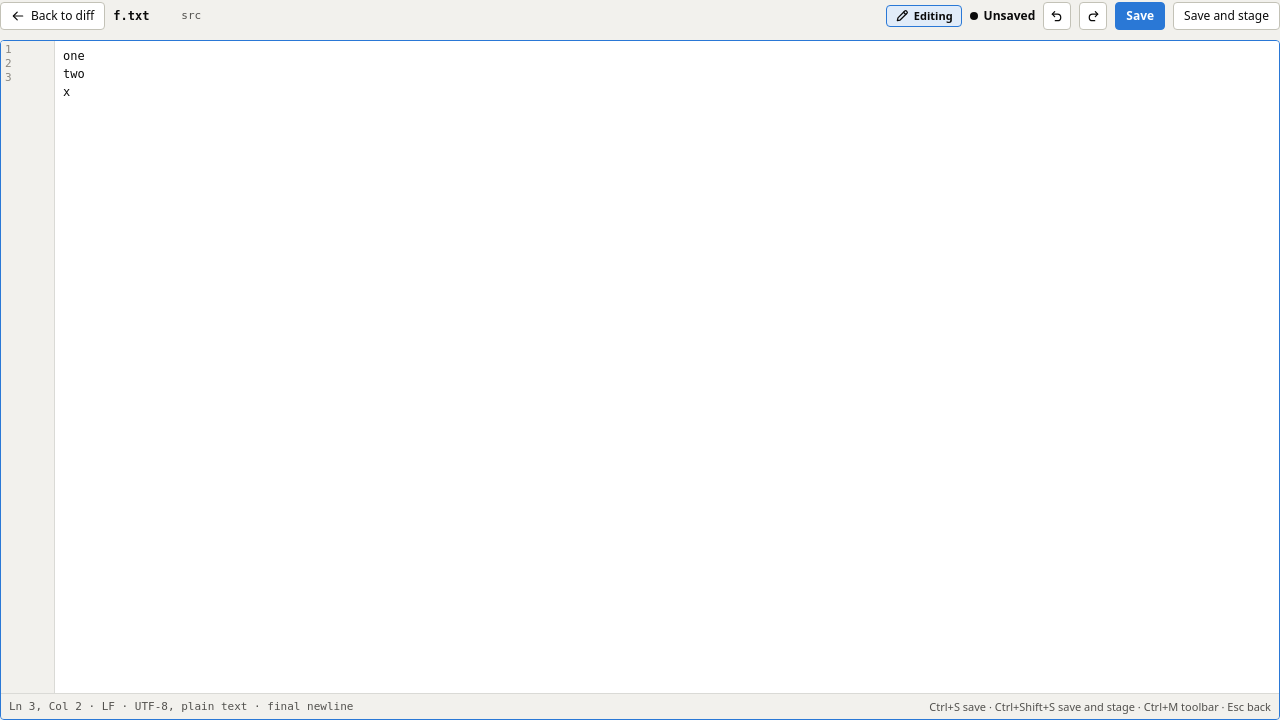
it: EditorPane save flow (specs/edit-in-diff.md FR-470, FR-474, FR-537) › Cancel on the overwrite prompt writes nothing more and keeps the buffer
Press s in the field named "Editing src/f.txt", box [63, 49, 85, 99]
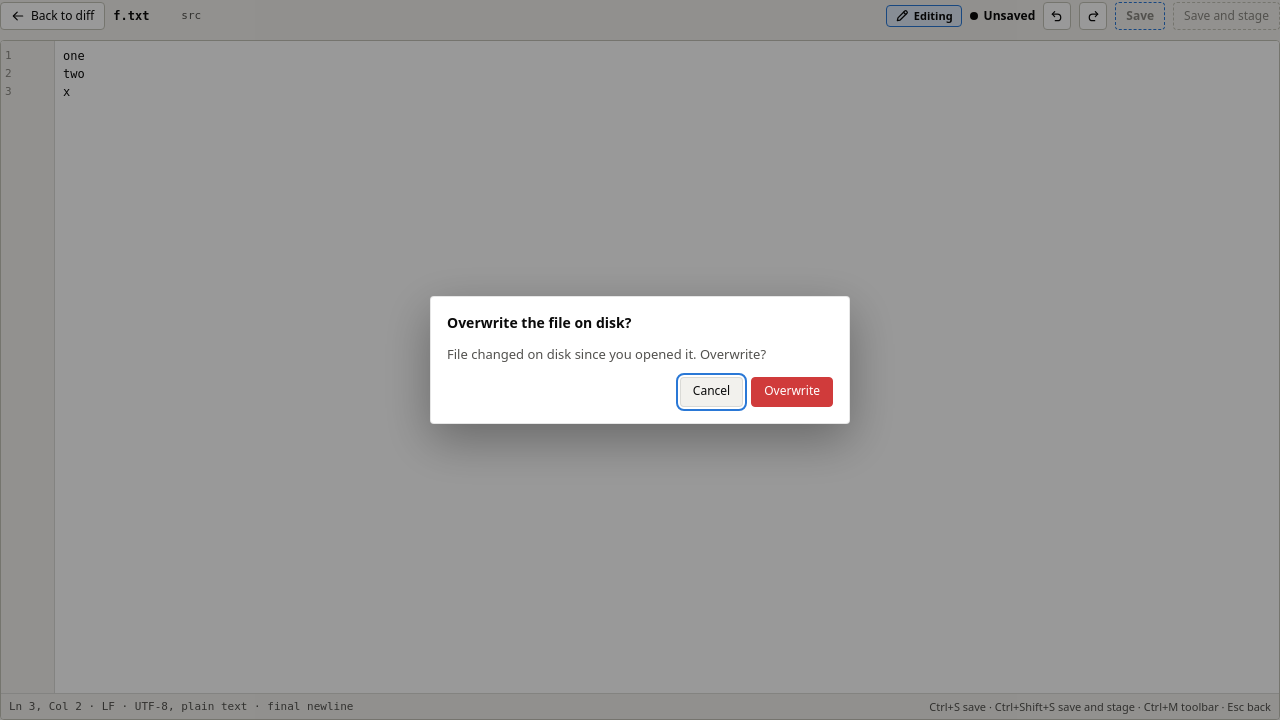
Click the button "Cancel". click: (712, 392)
box: [680, 376, 743, 406]
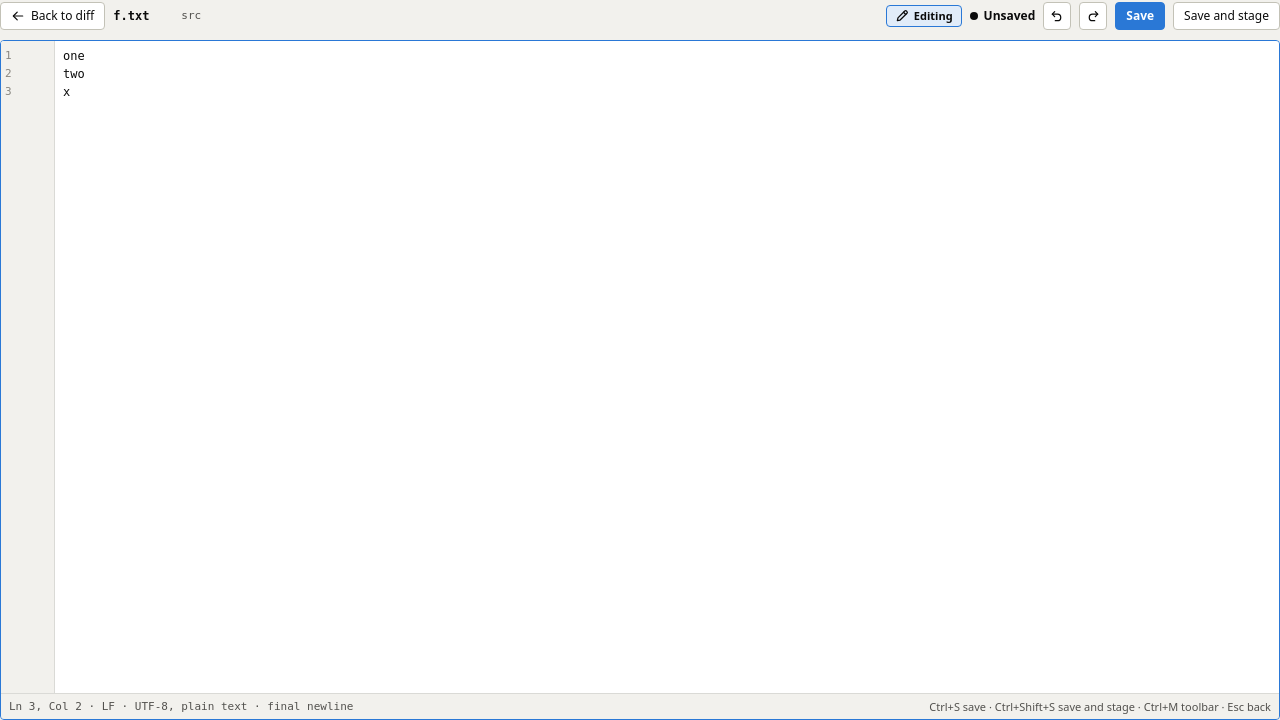
Expected: the text "Unsaved" is shown, [970, 8, 1035, 24]
Now the dialog is gone
